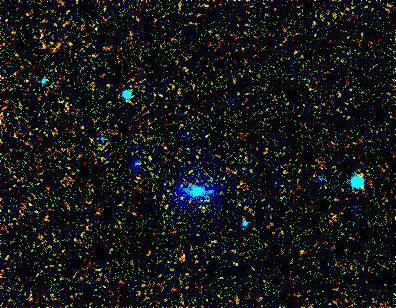star: (196, 178, 226, 208)
